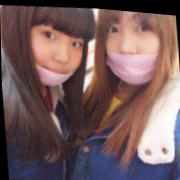WRONG: (101, 9, 165, 86), (23, 20, 88, 92)
